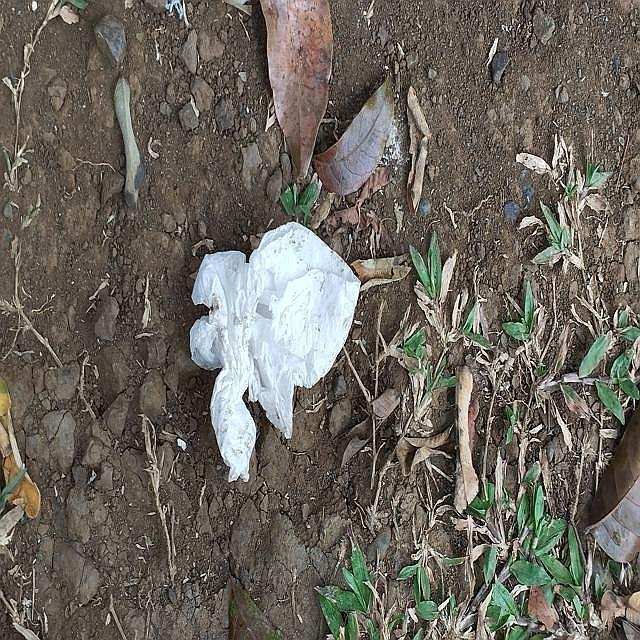Biodegradable: (192, 223, 363, 481)
